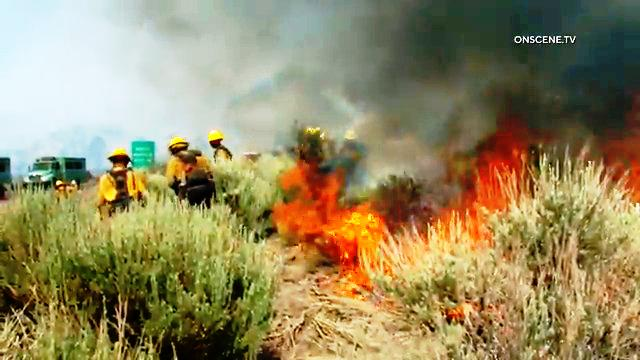fire: (398, 142, 534, 264), (266, 178, 386, 291)
smoke: (91, 0, 379, 103)
